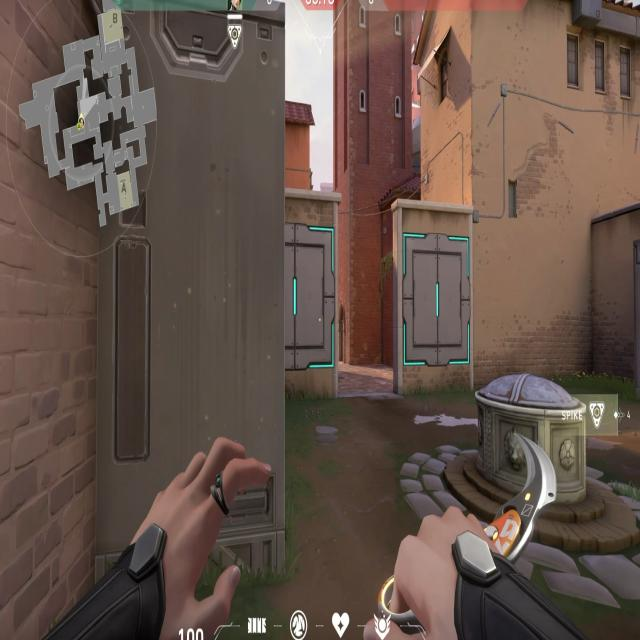Mid_Wall: (393, 199, 477, 390), (284, 186, 342, 402)
